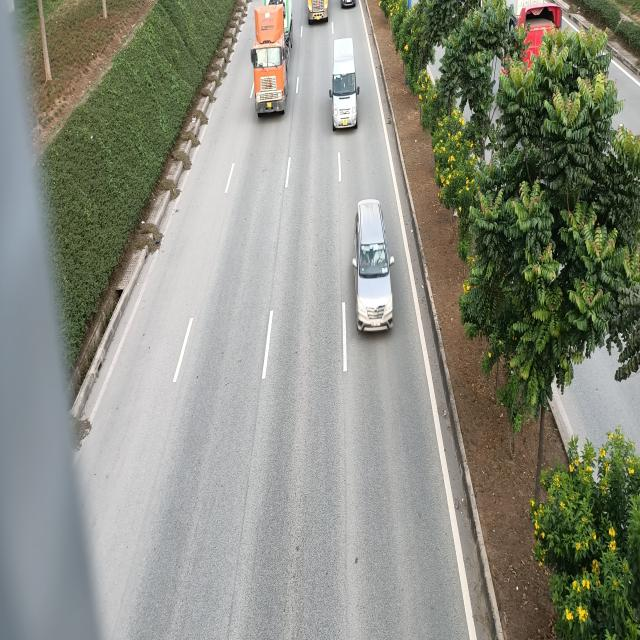car: (351, 202, 393, 336)
container: (252, 0, 294, 115), (306, 0, 331, 24)
van: (329, 39, 360, 131)
